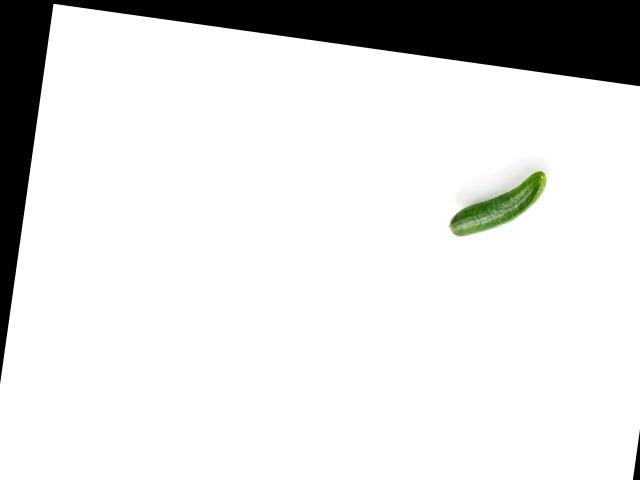cucumber: (448, 159, 547, 246)
